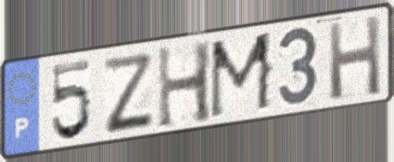3: (276, 22, 321, 112)
5: (49, 56, 94, 144)
H: (155, 38, 215, 133), (326, 11, 384, 103)
M: (207, 28, 276, 123)
Z: (100, 50, 157, 137)
